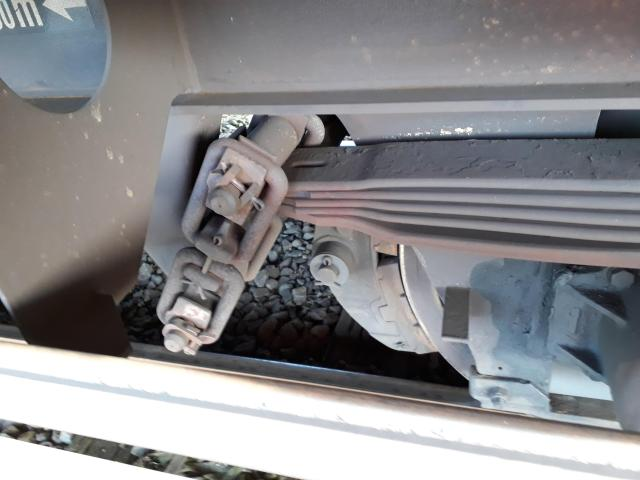blattfederww: (240, 142, 640, 266)
